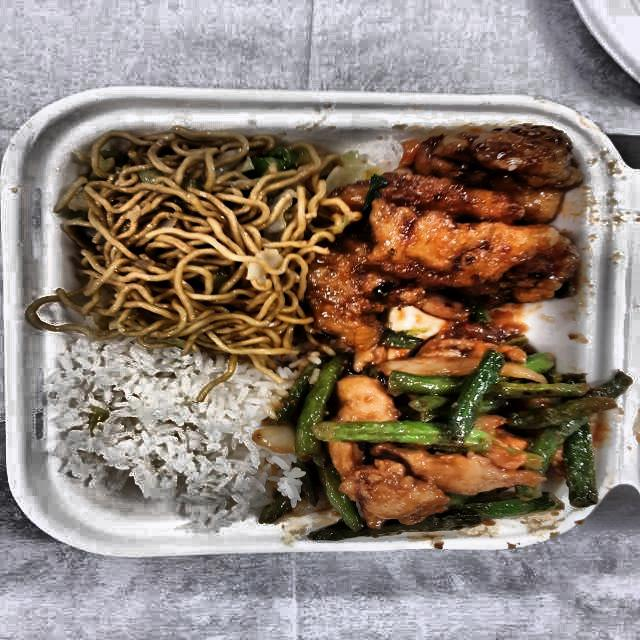Food: (282, 322, 616, 540), (55, 124, 337, 343), (341, 121, 599, 330), (62, 341, 280, 512)
